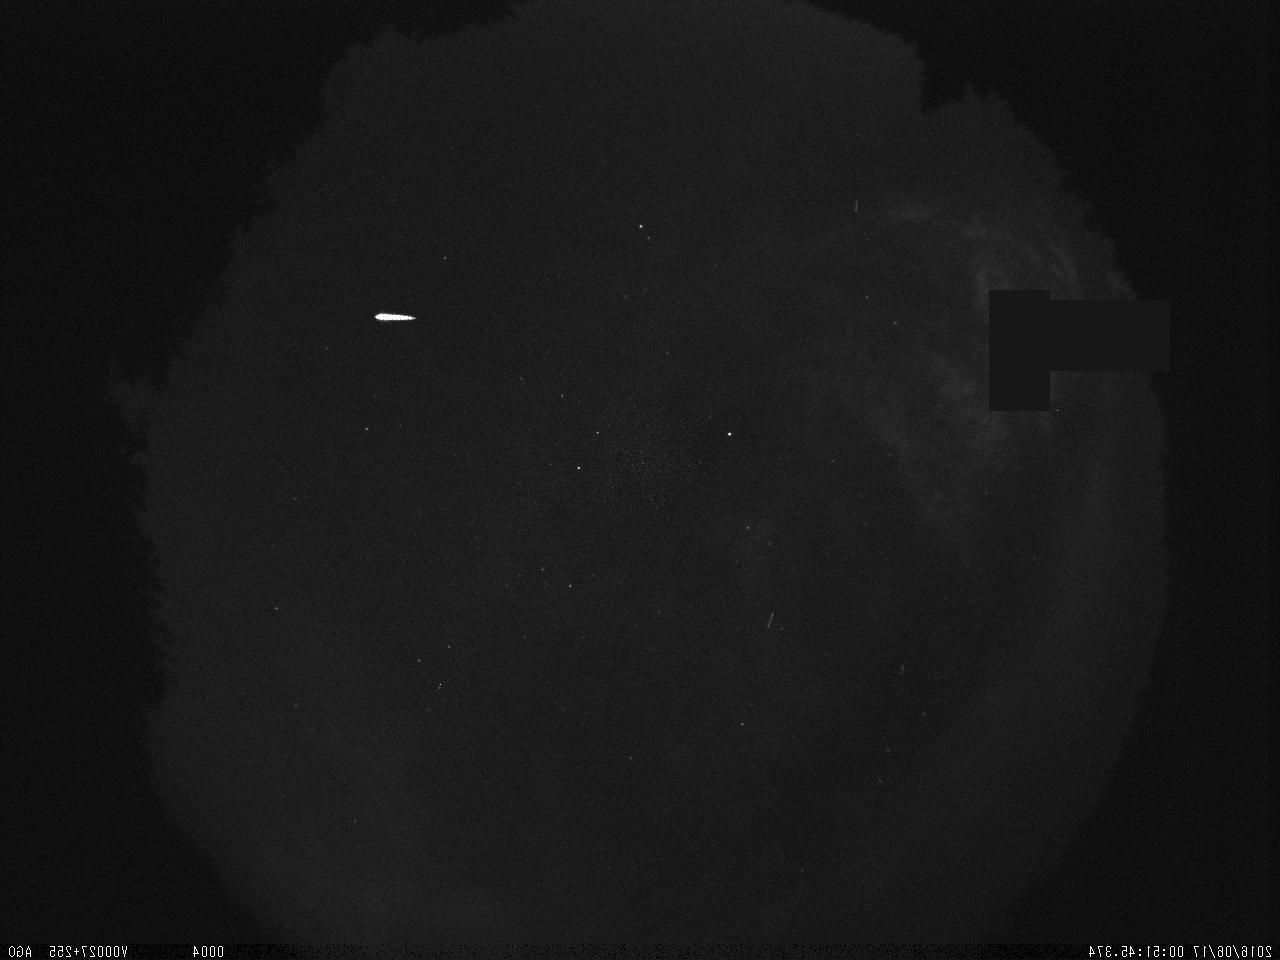meteor: (361, 307, 425, 328)
